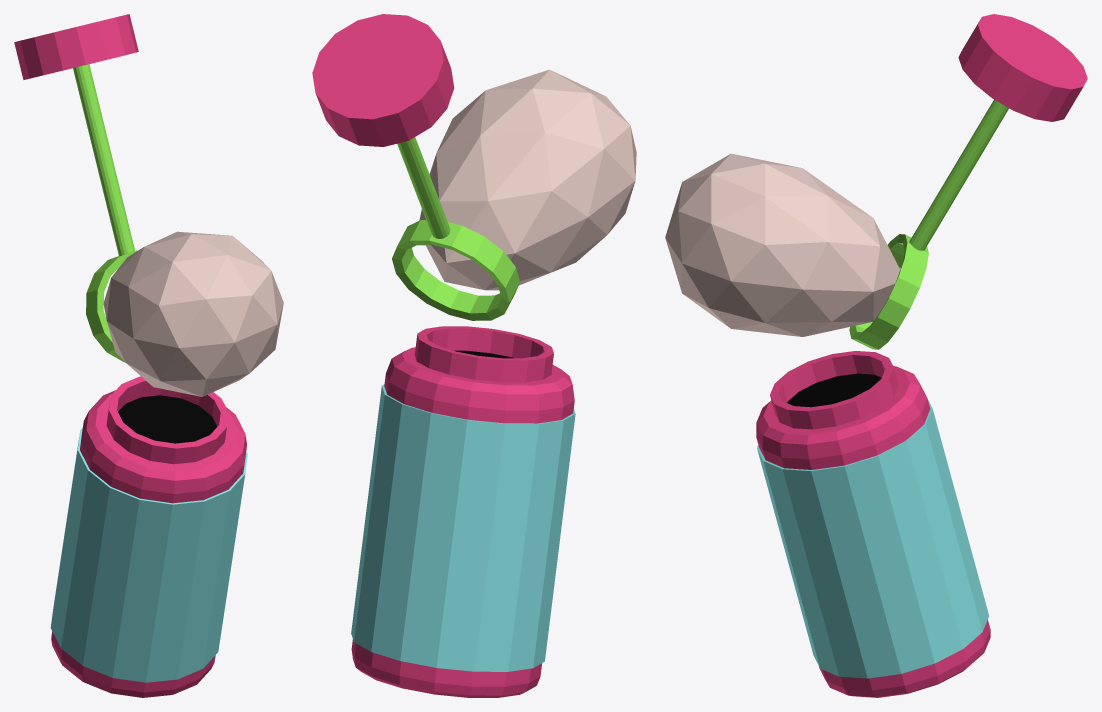
File: Colletable.fbx
3 views of the same model, side by side, from view 1: azimuth 30°, elevation 25°; view 2: azimuth 150°, elevation 25°; view 3: azimuth 270°, elevation 25° (orthographic). The views are drawn at different scales.
Parts seen in each view (by area): view 1: Icosphere.001; view 2: Icosphere.001; view 3: Icosphere.001.
Boxes of the visible parts, box(x1,y1,x2,y2) form: Icosphere.001: box(14, 14, 283, 697); Icosphere.001: box(312, 14, 636, 697); Icosphere.001: box(665, 14, 1087, 697).
Bounding box in the file's own units: 217 × 815 × 479.
